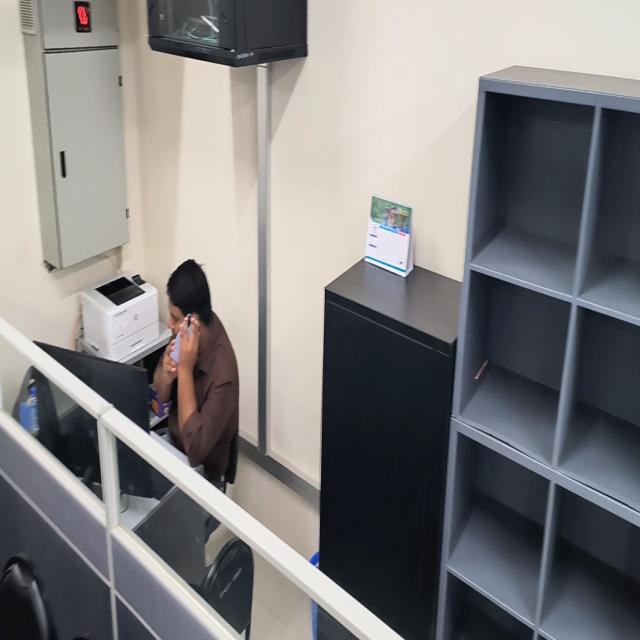Chair: (191, 539, 254, 639), (0, 555, 58, 639)
Monitor: (36, 343, 150, 431)
